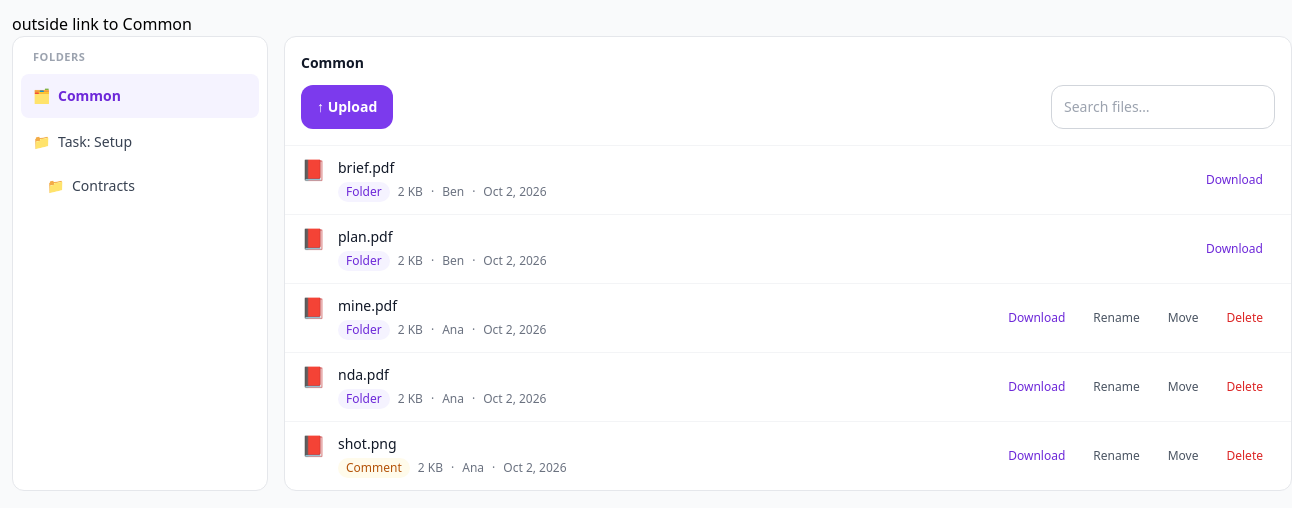
Test case: ProjectFilesTab › clicking a task lists only that task root files
Expected: the text "brief.pdf" is shown, top-left (338, 158), bottom-right (394, 177)
Click the button "📁 Task: Setup": (140, 142) top-left (21, 120), bottom-right (259, 164)
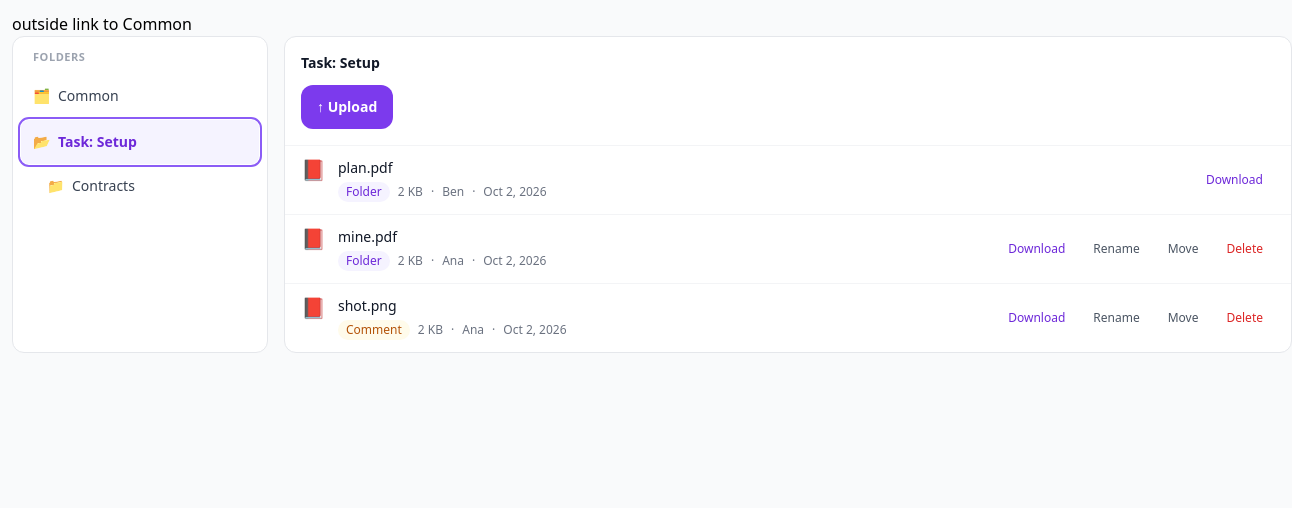
Expected: the text "plan.pdf" is shown, top-left (338, 158), bottom-right (392, 177)
Now the text "brief.pdf" is gone
Now the text "nda.pdf" is gone
